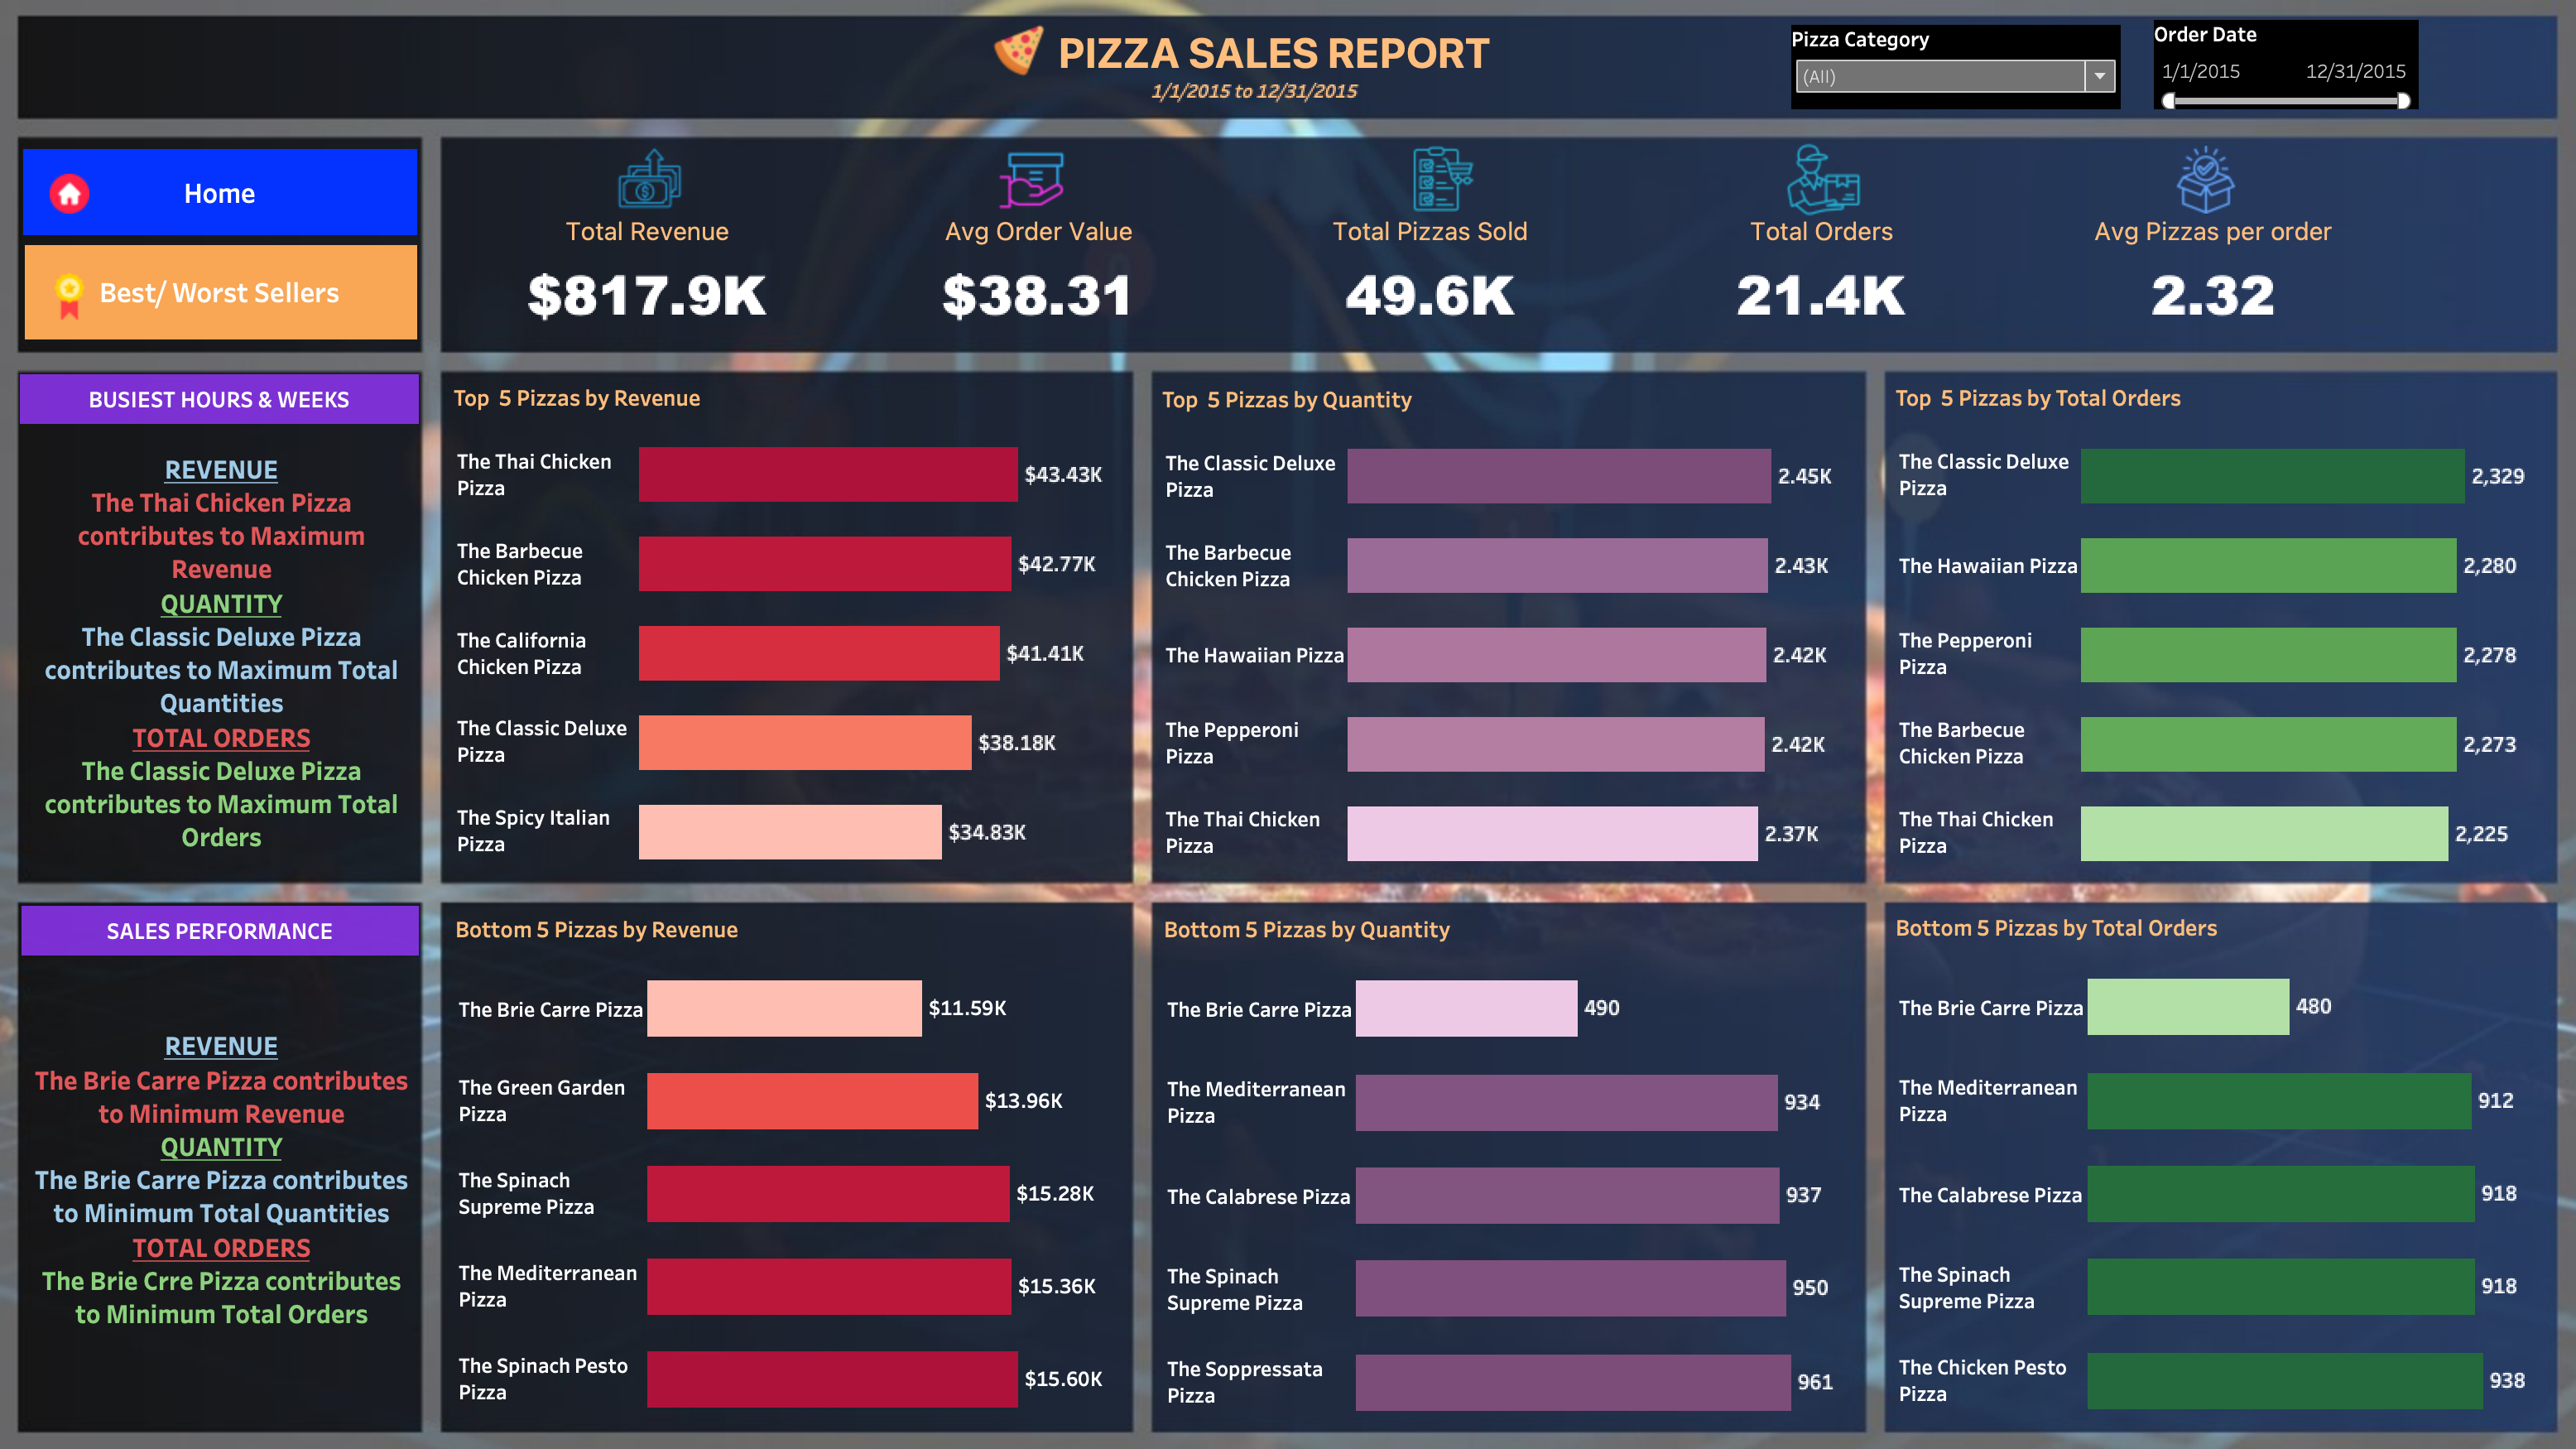

This screenshot's page, from the dashboard's own definition file:
{"tool":"tableau","page":{"name":"Best/ Worst Sellers","canvas":[1600,900],"ordinal":0},"visuals":[{"type":"image","param":"/Users/akhilnashaboina/Documents/SQL Project/Pizza Tableau 2.jpg","box":[8,8,1584,884]},{"type":"filter","title":"Date Range","param":"[federated.0vrkli61wh02i913dqwdv1n3ouzb].[none:order_date:qk]","box":[1322,24,160,54]},{"type":"image","param":"/Users/akhilnashaboina/Documents/SQL Project/Icons/pizza-slice.png","box":[615,27,43,31]},{"type":"filter","title":"Date Range","param":"[federated.0vrkli61wh02i913dqwdv1n3ouzb].[none:pizza_category:nk]","box":[1103,27,199,51]},{"type":"text","box":[658,29,280,30]},{"type":"worksheet","title":"Date Range","mark":"Automatic","box":[672,53,213,27]},{"type":"image","param":"/Users/akhilnashaboina/Documents/SQL Project/Icons/profit-growth.png","box":[382,98,63,43]},{"type":"image","param":"/Users/akhilnashaboina/Documents/SQL Project/Icons/delivery-man.png","box":[1100,98,45,45]},{"type":"image","param":"/Users/akhilnashaboina/Documents/SQL Project/Icons/shipping-box.png","box":[616,99,56,44]},{"type":"image","param":"/Users/akhilnashaboina/Documents/SQL Project/Icons/order-delivery.png","box":[867,100,52,40]},{"type":"image","param":"/Users/akhilnashaboina/Documents/SQL Project/Icons/order (1).png","box":[1329,100,50,41]},{"type":"dashboard-object","box":[35,102,238,52]},{"type":"image","param":"/Users/akhilnashaboina/Documents/SQL Project/Icons/home (1).png","box":[51,117,30,24]},{"type":"worksheet","title":"KPI Banner","mark":"Automatic","box":[294,141,1182,78]},{"type":"dashboard-object","box":[36,160,237,57]},{"type":"image","param":"/Users/akhilnashaboina/Documents/SQL Project/Icons/choice.png","box":[49,177,30,28]},{"type":"text","box":[33,238,241,30]},{"type":"worksheet","title":"Top  5 Pizzas by Revenue","mark":"Automatic","rows":["pizza_name"],"cols":["Calculation_4425912534027132928"],"box":[291,239,411,302]},{"type":"worksheet","title":"Top  5 Pizzas by Total Orders","mark":"Automatic","rows":["pizza_name"],"cols":["Calculation_4425912534027485185"],"box":[1162,239,401,303]},{"type":"worksheet","title":"Top  5 Pizzas by Quantity","mark":"Automatic","rows":["pizza_name"],"cols":["Calculation_4425912534029225987"],"box":[719,240,426,302]},{"type":"text","box":[36,268,238,263]},{"type":"text","box":[34,559,240,30]},{"type":"worksheet","title":"Bottom 5 Pizzas by Total Orders","mark":"Automatic","rows":["pizza_name"],"cols":["Calculation_4425912534027485185"],"box":[1162,559,401,315]},{"type":"worksheet","title":"Bottom 5 Pizzas by Revenue","mark":"Automatic","rows":["pizza_name"],"cols":["Calculation_4425912534027132928"],"box":[292,560,410,313]},{"type":"worksheet","title":"Bottom 5 Pizzas by Quantity","mark":"Automatic","rows":["pizza_name"],"cols":["Calculation_4425912534029225987"],"box":[720,560,426,315]},{"type":"text","box":[36,582,238,275]}]}

Visuals, with their boxes in screenshot pixels (x1, y1, x2, y2), scaled from the page's 1600x900 canvas onto the 2576x1449 screenshot:
image: [left=13, top=13, right=2563, bottom=1436]
"Date Range" filter: [left=2128, top=39, right=2386, bottom=126]
image: [left=990, top=43, right=1060, bottom=94]
"Date Range" filter: [left=1776, top=43, right=2096, bottom=126]
text: [left=1060, top=46, right=1510, bottom=95]
"Date Range" worksheet: [left=1082, top=85, right=1425, bottom=129]
image: [left=615, top=158, right=717, bottom=227]
image: [left=1771, top=158, right=1843, bottom=230]
image: [left=992, top=159, right=1082, bottom=230]
image: [left=1396, top=161, right=1479, bottom=225]
image: [left=2140, top=161, right=2220, bottom=227]
dashboard-object: [left=56, top=164, right=440, bottom=248]
image: [left=82, top=189, right=131, bottom=227]
"KPI Banner" worksheet: [left=473, top=227, right=2377, bottom=353]
dashboard-object: [left=58, top=258, right=440, bottom=349]
image: [left=79, top=285, right=127, bottom=330]
text: [left=53, top=383, right=441, bottom=431]
"Top  5 Pizzas by Revenue" worksheet: [left=469, top=385, right=1130, bottom=871]
"Top  5 Pizzas by Total Orders" worksheet: [left=1871, top=385, right=2516, bottom=873]
"Top  5 Pizzas by Quantity" worksheet: [left=1157, top=387, right=1843, bottom=873]
text: [left=58, top=431, right=441, bottom=854]
text: [left=55, top=900, right=441, bottom=948]
"Bottom 5 Pizzas by Total Orders" worksheet: [left=1871, top=900, right=2516, bottom=1407]
"Bottom 5 Pizzas by Revenue" worksheet: [left=470, top=902, right=1130, bottom=1406]
"Bottom 5 Pizzas by Quantity" worksheet: [left=1159, top=902, right=1845, bottom=1408]
text: [left=58, top=937, right=441, bottom=1379]
